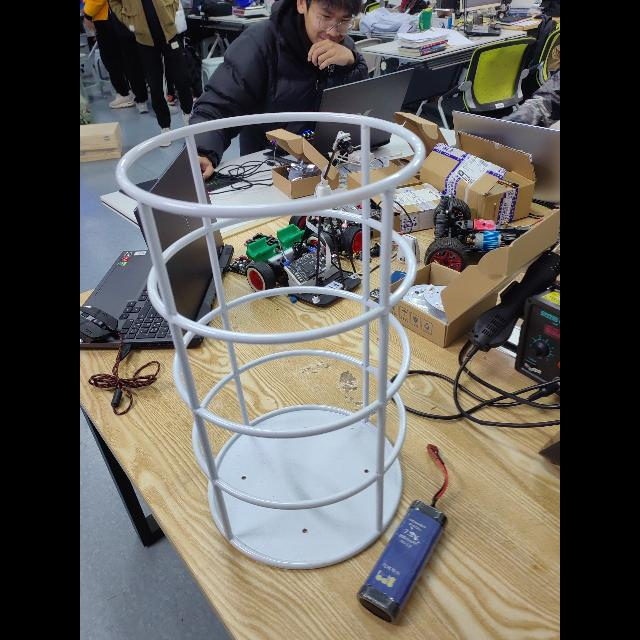S: (108, 105, 432, 580)
